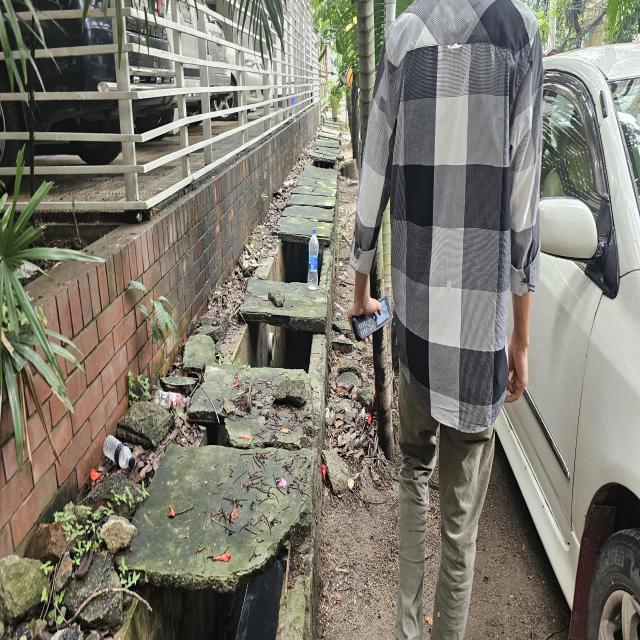artificial_container: (103, 435, 135, 472), (308, 228, 319, 291), (155, 390, 187, 408), (332, 109, 337, 119)
drain_inlet: (226, 312, 322, 368), (254, 233, 330, 286), (311, 158, 336, 169)
